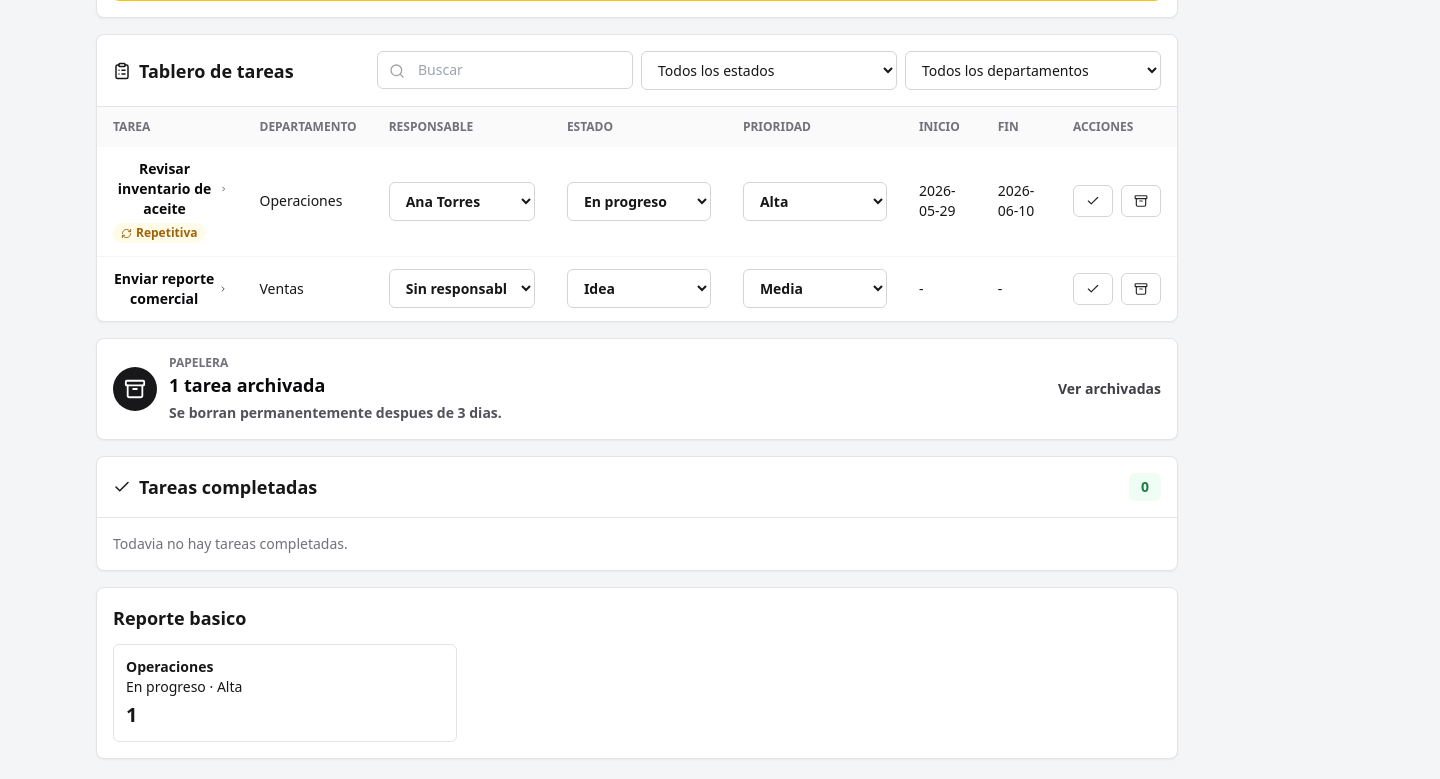
Test: Nomada Tasks page › hides permanent delete actions in trash for non-admin users
The image size is (1440, 779).
(page scrolled)
Expected: the heading "Tablero de tareas" is shown, [139, 56, 294, 84]
Click the button "1 tarea archivada": (135, 388) [96, 338, 1178, 440]
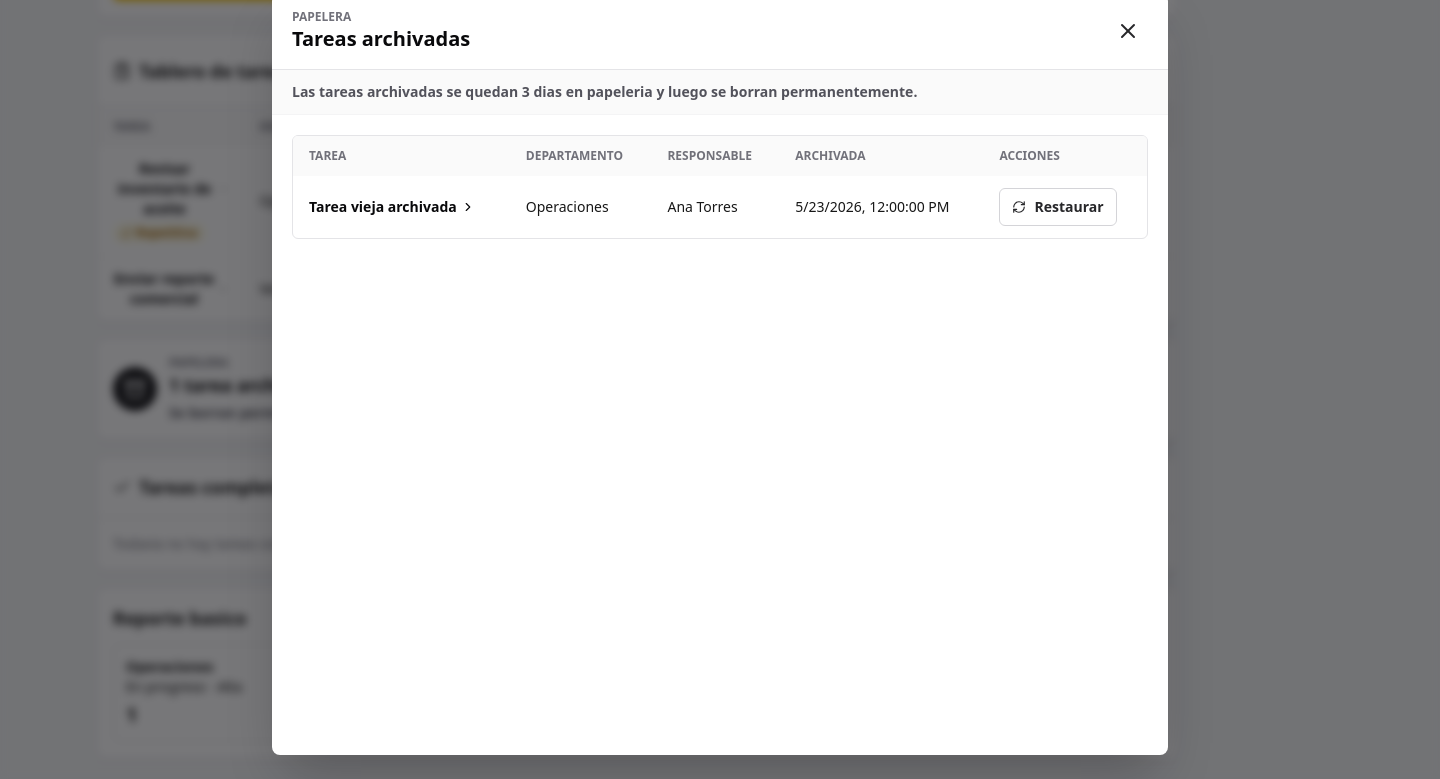
Now the heading "Tareas archivadas" is shown, box [292, 25, 470, 53]
